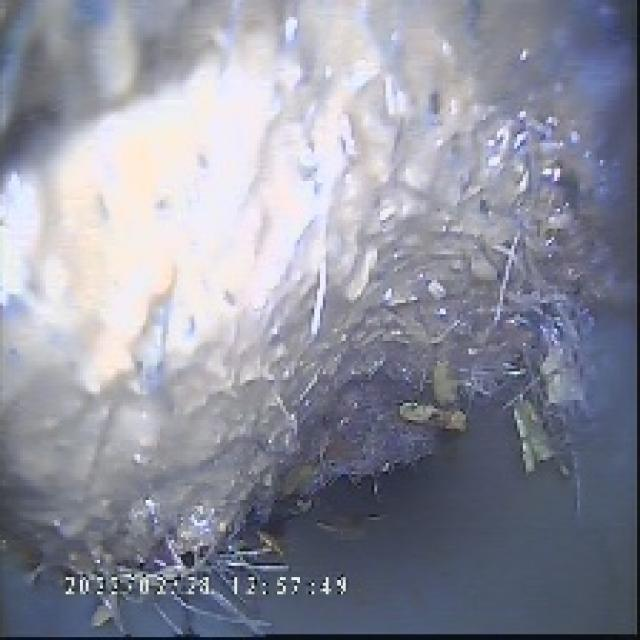sluge accumulation: (57, 117, 606, 534)
